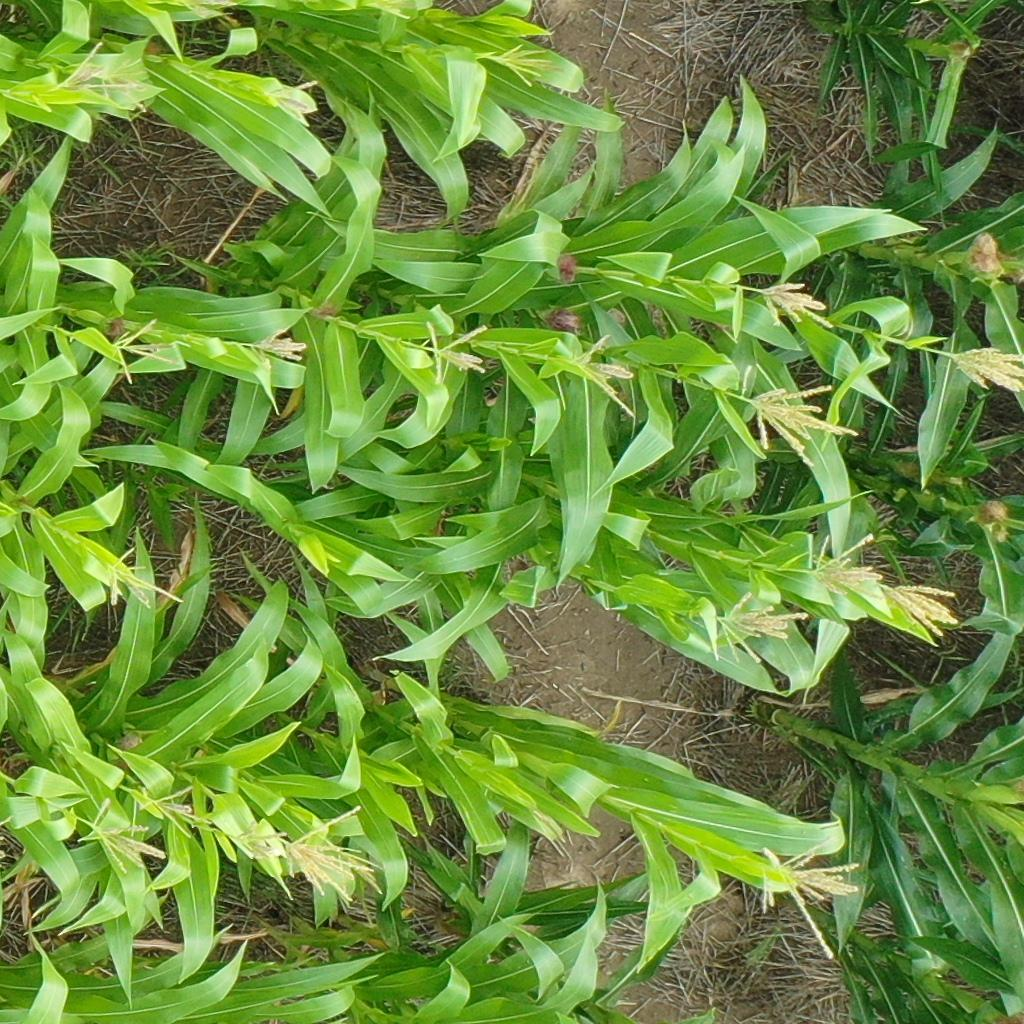Tassel: (759, 840, 861, 963), (278, 802, 385, 904), (741, 378, 860, 469), (550, 329, 640, 417), (714, 584, 810, 666), (80, 794, 168, 872), (231, 814, 299, 904), (804, 526, 884, 598), (104, 545, 185, 613), (108, 315, 184, 383), (58, 33, 136, 92), (418, 320, 491, 383), (886, 578, 957, 637), (757, 279, 837, 331), (950, 343, 1024, 399), (491, 41, 564, 88), (152, 783, 213, 837), (260, 76, 321, 128), (99, 56, 154, 108), (247, 328, 307, 369), (528, 809, 567, 846), (173, 1, 234, 22), (363, 1, 413, 20)
